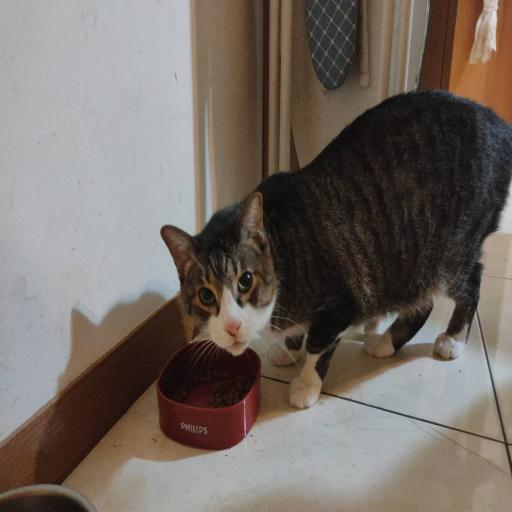cat: (178, 131, 509, 375)
